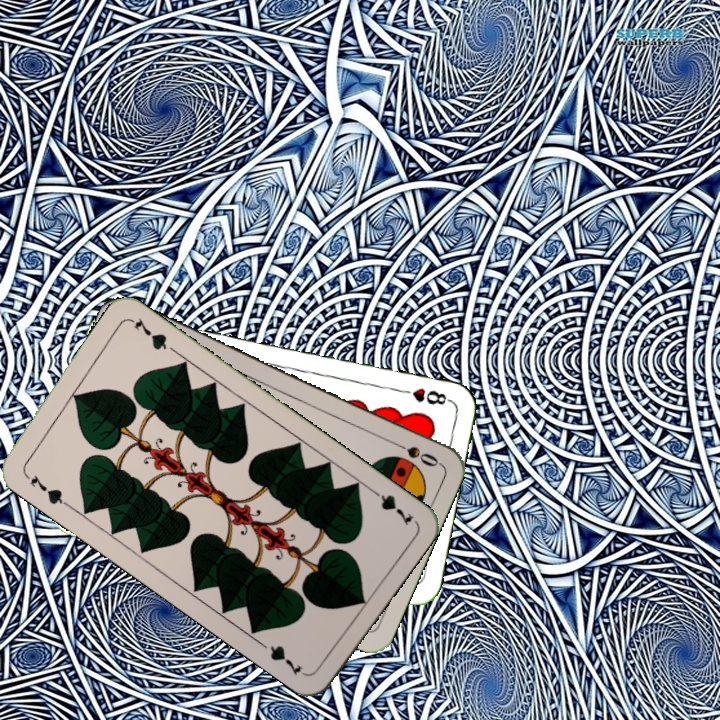G7: (365, 484, 416, 529), (20, 468, 71, 508)
H8: (394, 384, 453, 408)
SO: (385, 436, 442, 470)
